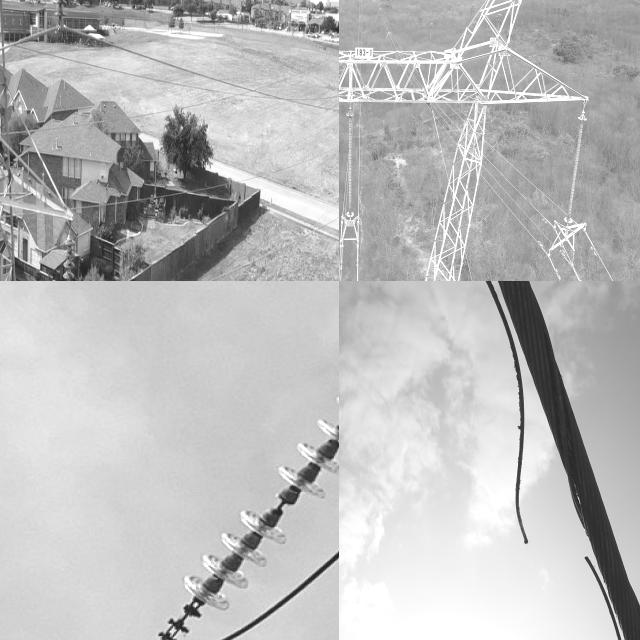杆塔: (339, 0, 592, 281)
正常电缆: (483, 177, 548, 256), (489, 142, 560, 210), (487, 157, 552, 227), (486, 168, 547, 240), (584, 230, 616, 281), (356, 109, 361, 281)
正常绝缘子: (101, 375, 339, 640), (559, 111, 592, 228), (57, 217, 77, 281), (346, 109, 355, 219), (50, 0, 70, 49)
电缆破损: (451, 281, 640, 640)
绝缘子破损: (258, 492, 302, 516)
